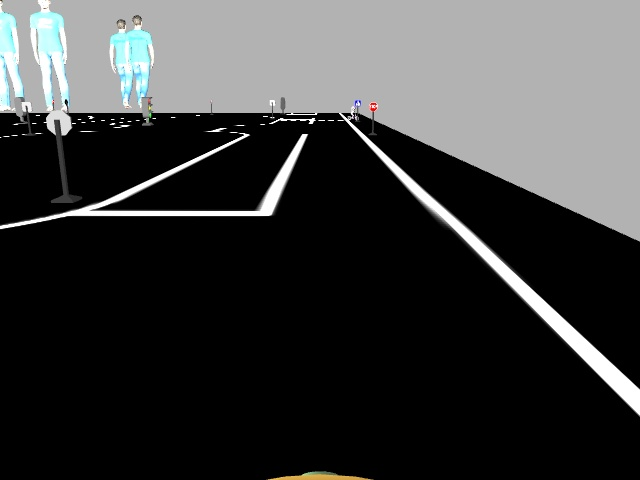Stop: (366, 101, 377, 111)
TrafficLight: (140, 94, 153, 117)
